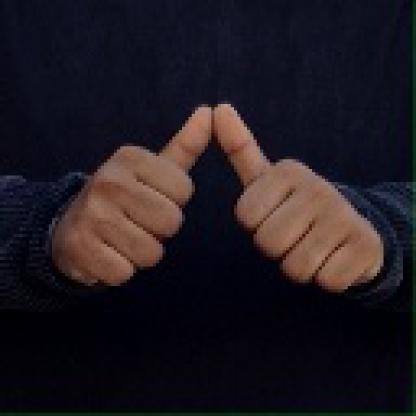A: (58, 100, 389, 304)
